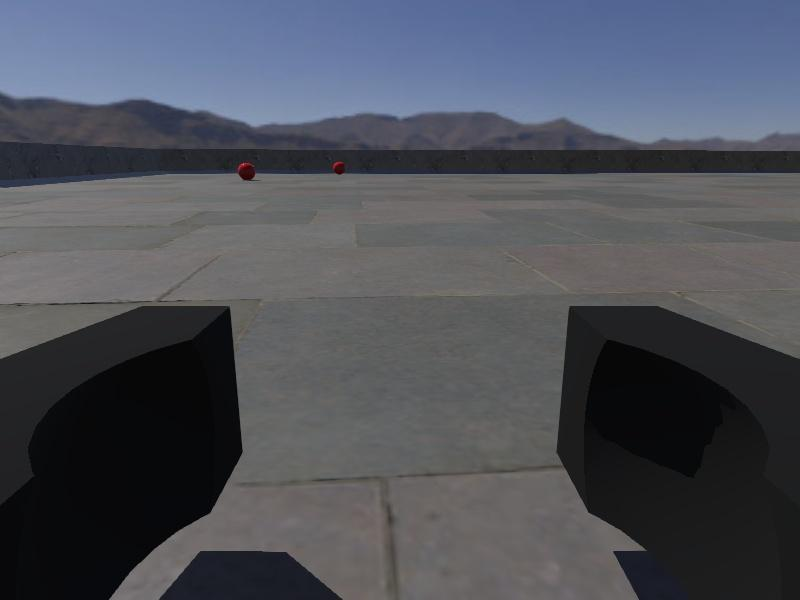red ball: (237, 161, 256, 181), (332, 160, 348, 175)
